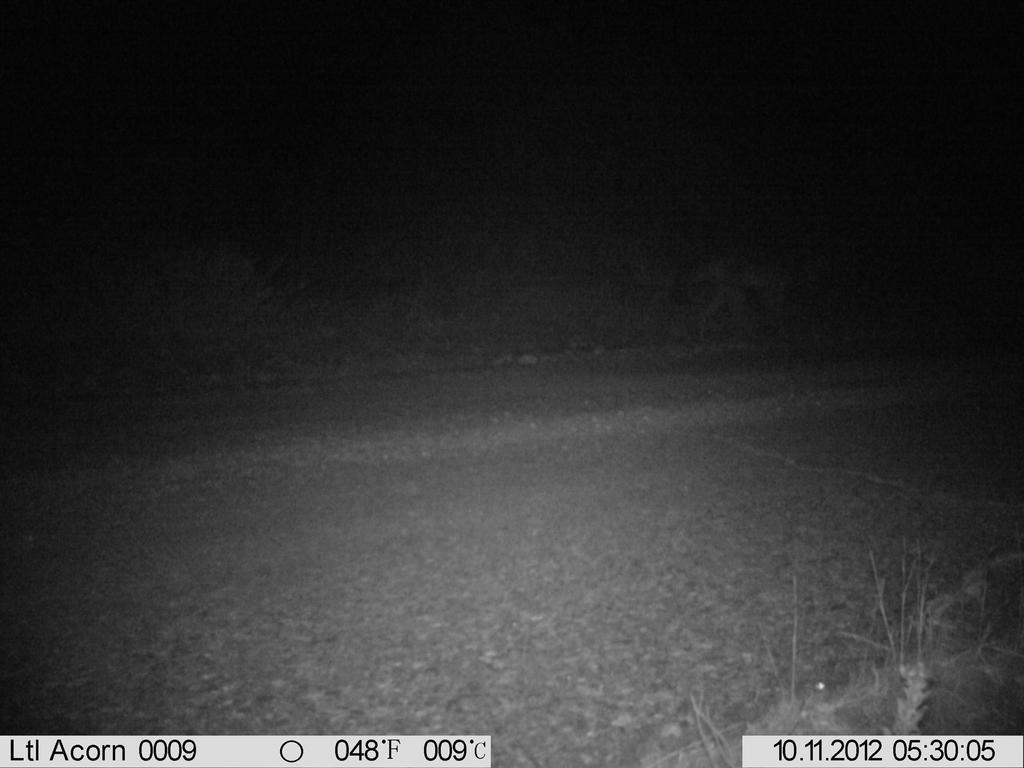coyote: (667, 238, 848, 353)
